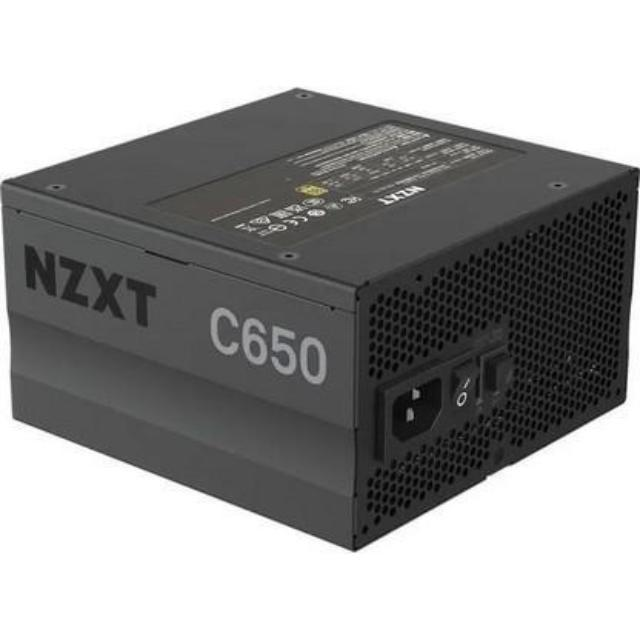PSU: (0, 62, 640, 560)
